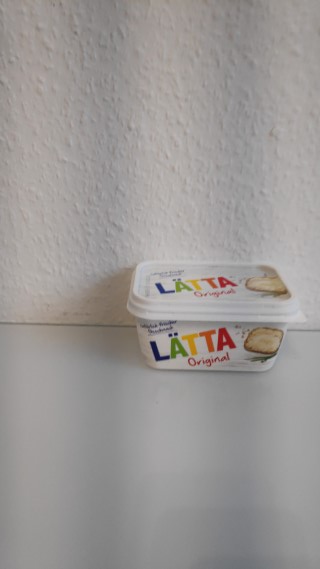laetta: (125, 259, 307, 372)
